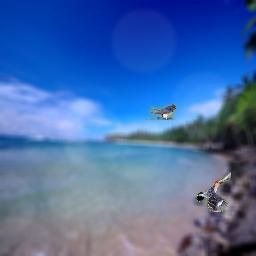Swallow: (146, 104, 176, 120)
Woodpecker: (195, 172, 231, 212)
